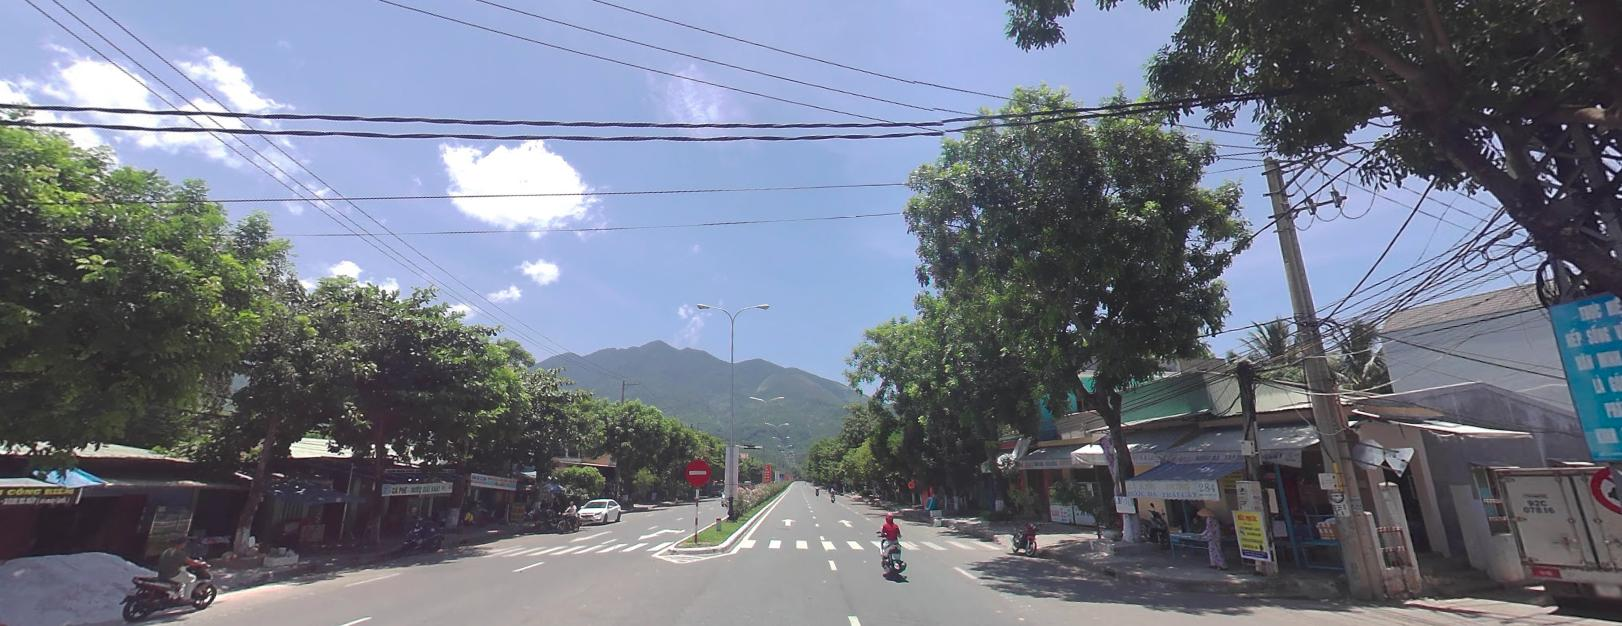Cam con lai: (1588, 463, 1621, 513)
Cam nguoc chieu: (686, 458, 709, 484)
